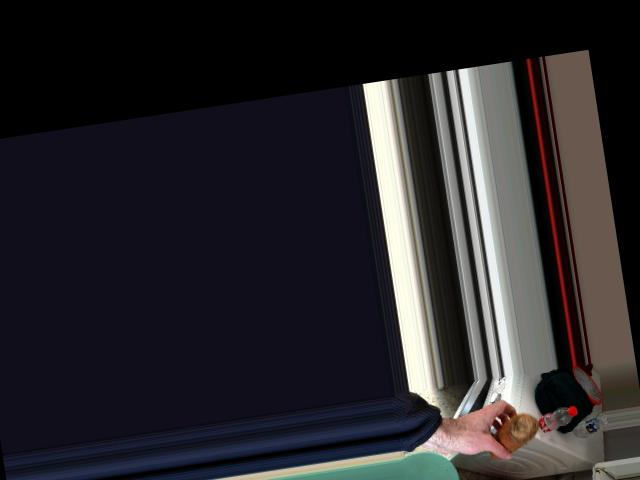sweet_potato: (478, 410, 539, 464)
